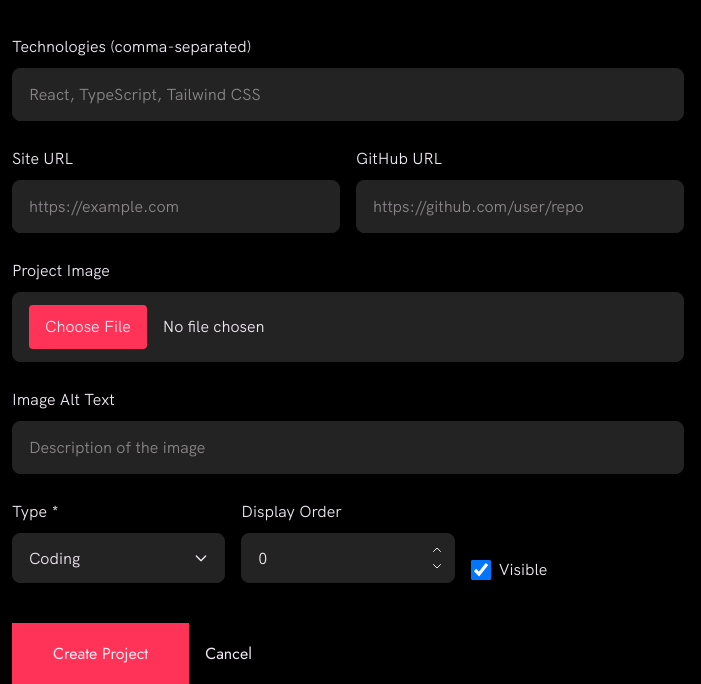
it: ProjectForm › Display Order Buttons › increments display order with up button
(page scrolled)
Check: the number field labelled "Display Order" holds "0", box [241,533,455,583]
Click the 1st button.
click(437, 550)  # box [431,544,443,556]
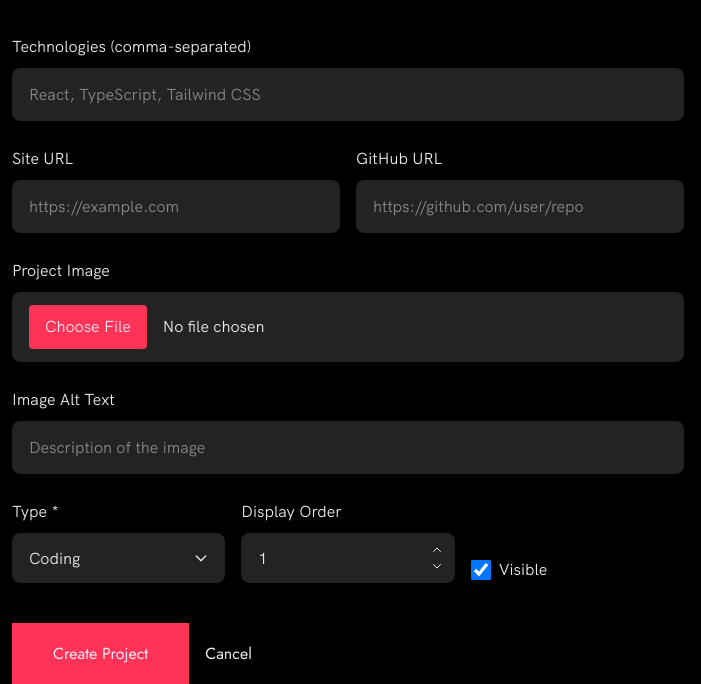
Check: the number field labelled "Display Order" holds "1", box [241,533,455,583]
